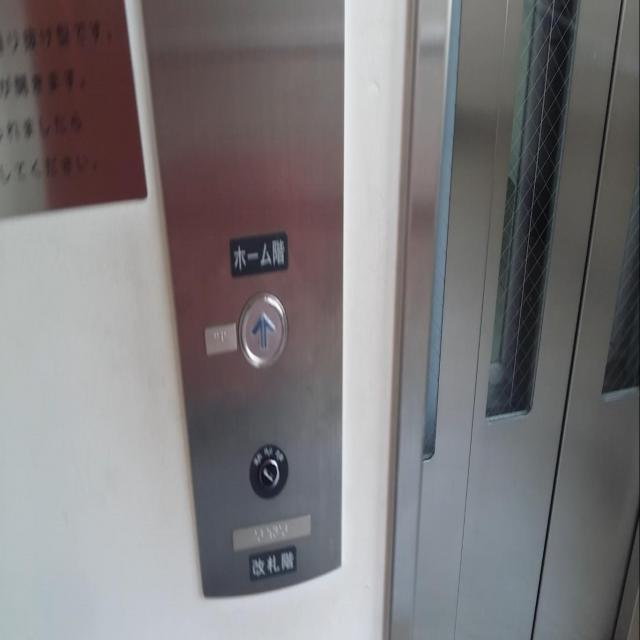keyhole: (249, 443, 287, 502)
up: (238, 287, 290, 374)
